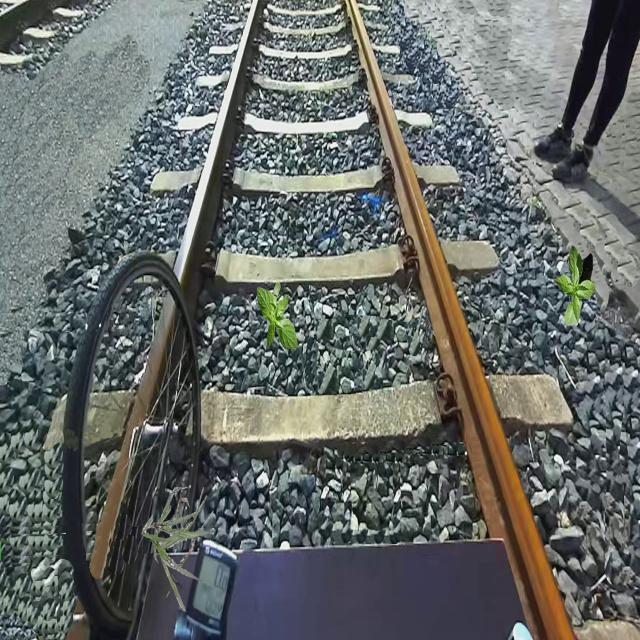Plant: (141, 487, 214, 612), (554, 246, 596, 326), (257, 281, 298, 352)
